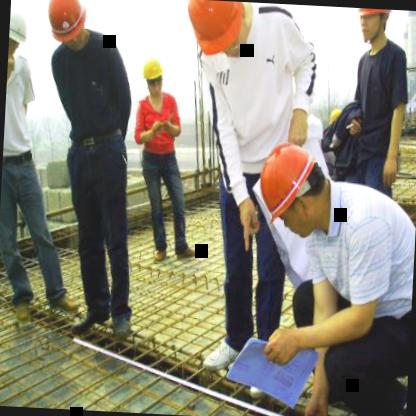helmet: (240, 132, 336, 237), (175, 0, 248, 67), (42, 0, 88, 46), (352, 7, 394, 46), (140, 50, 166, 102), (8, 12, 29, 57)
